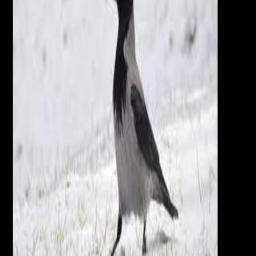Crow: (108, 0, 179, 256)
